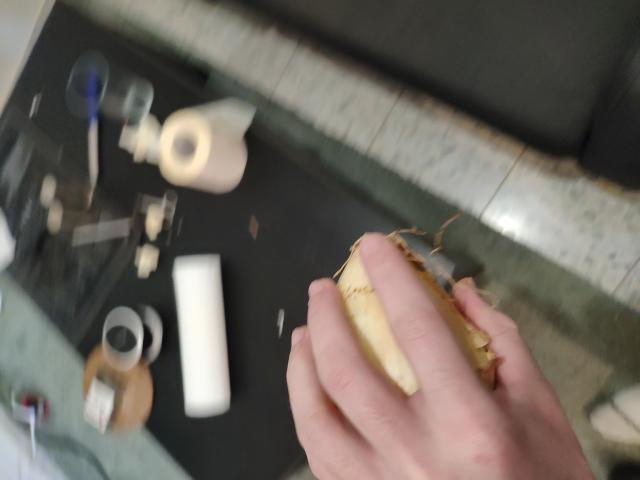onion: (323, 238, 502, 427)
